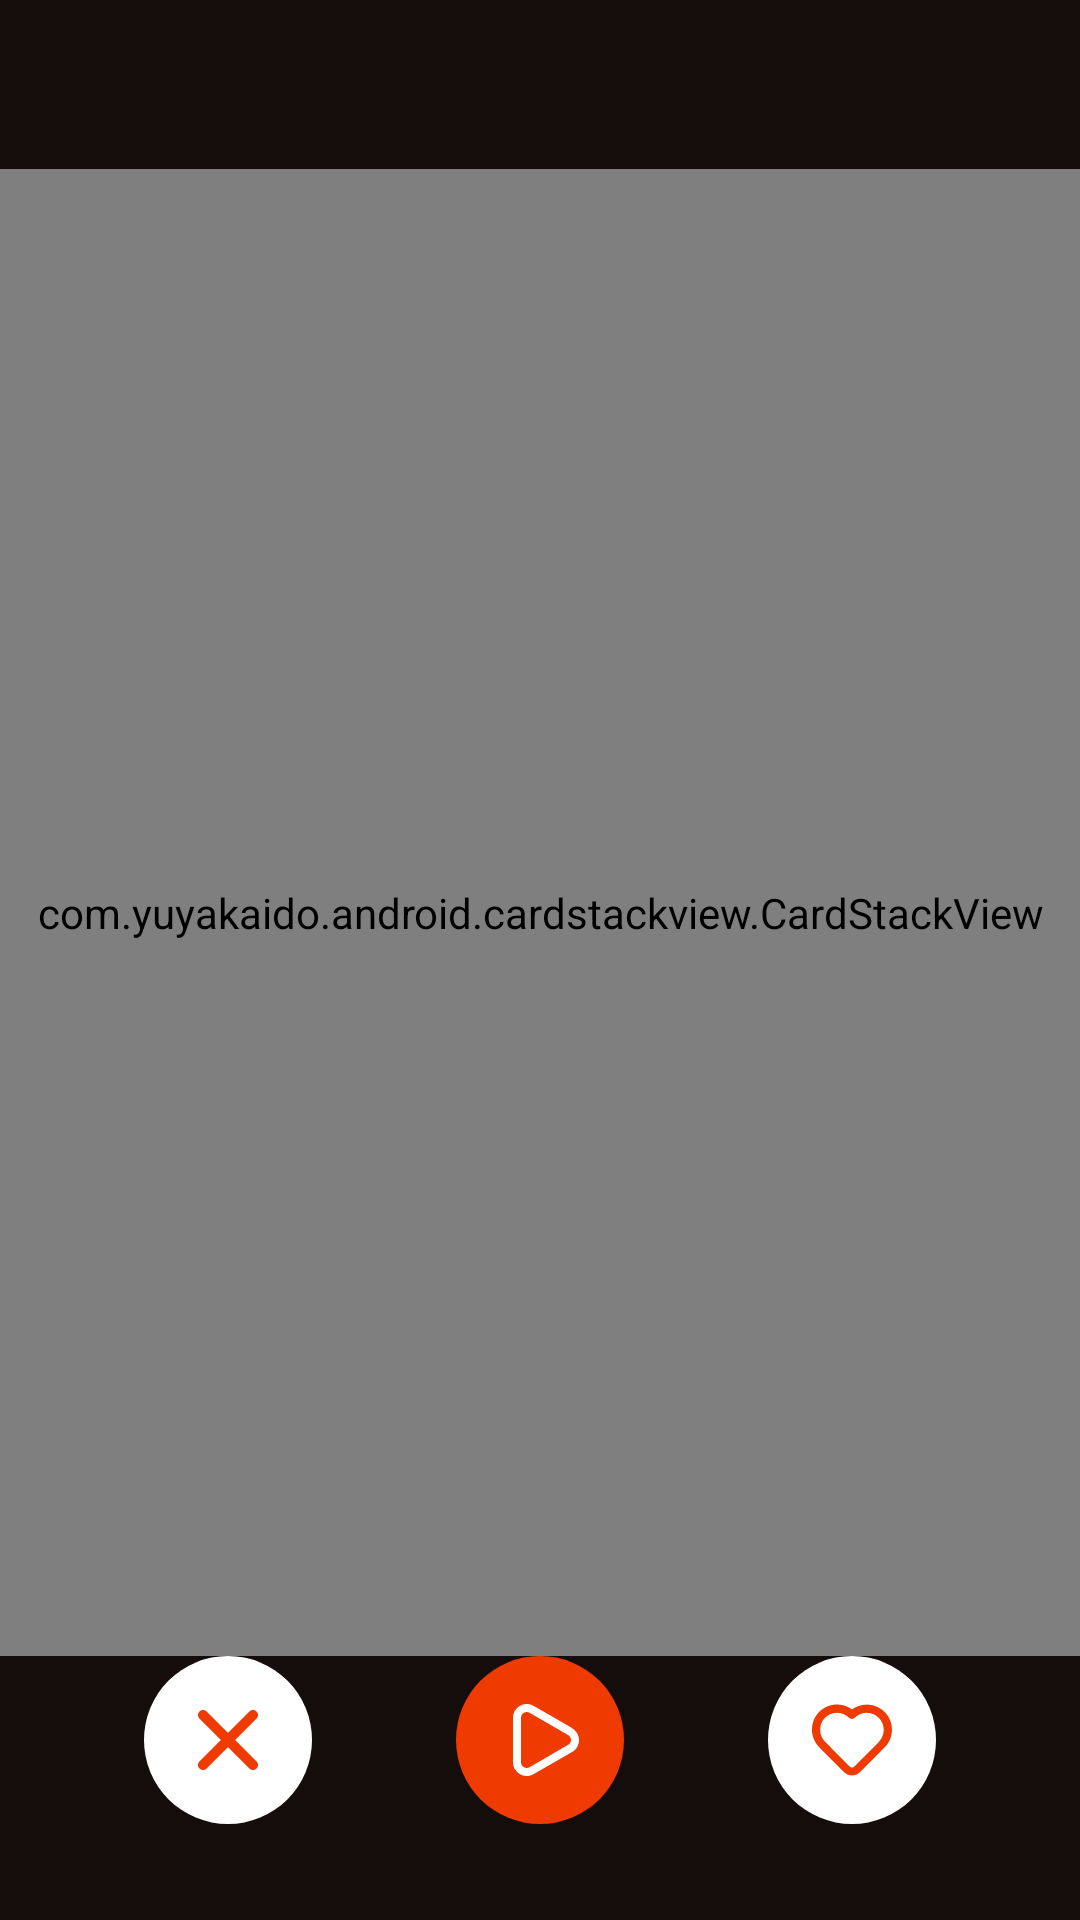

Icon click points for this 1080 × 1920 phone screenshot, format [x,y]:
dislike: [228,1740]
like: [852,1740]
play: [540,1740]
